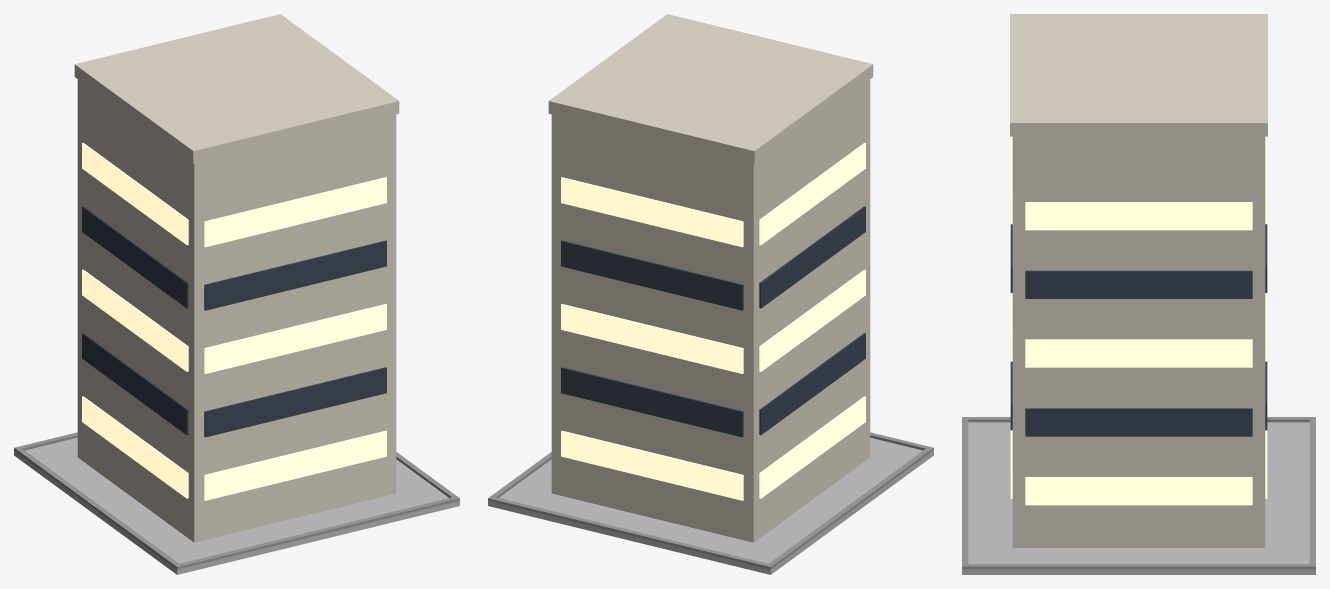
File: bt-midrise-1a.glb
3 views of the same model, side by side, from view 1: azimuth 30°, elevation 25°; view 2: azimuth 150°, elevation 25°; view 3: azimuth 270°, elevation 25° (orthographic). The views are drawn at different scales.
Visible parts, largest first — view 1: body, parapet, skirt_slab, band_s_3, band_s_1, band_s_0, band_s_4, band_s_2, band_w_3, band_w_0, band_w_1, band_w_2 (+3 smaller); view 2: body, parapet, skirt_slab, band_n_3, band_n_1, band_n_0, band_n_4, band_n_2, band_w_3, band_w_0, band_w_1, band_w_2 (+3 smaller); view 3: body, parapet, skirt_slab, band_e_0, band_e_1, band_e_2, band_e_3, band_e_4, skirt_curb_e, skirt_curb_n, skirt_curb_s, skirt_curb_w.
Boxes of the visible parts, box(x1,y1,x2,y2) form: body: box(77, 79, 396, 542); parapet: box(74, 14, 399, 163); skirt_slab: box(14, 437, 459, 574); band_s_3: box(204, 240, 386, 310); band_s_1: box(204, 367, 386, 437); band_s_0: box(204, 430, 386, 500); band_s_4: box(204, 177, 386, 247); band_s_2: box(204, 304, 386, 373); band_w_3: box(82, 206, 188, 308); band_w_0: box(82, 396, 188, 498); band_w_1: box(82, 333, 188, 435); band_w_2: box(82, 269, 188, 371); body: box(551, 79, 870, 542); parapet: box(548, 14, 873, 163); skirt_slab: box(488, 437, 933, 574); band_n_3: box(561, 240, 743, 310); band_n_1: box(561, 367, 743, 437); band_n_0: box(561, 430, 743, 500); band_n_4: box(561, 177, 743, 247); band_n_2: box(561, 304, 743, 373); band_w_3: box(759, 206, 865, 308); band_w_0: box(759, 396, 865, 498); band_w_1: box(759, 333, 865, 435); band_w_2: box(759, 269, 865, 371); body: box(1012, 136, 1265, 547); parapet: box(1010, 14, 1267, 136); skirt_slab: box(962, 422, 1315, 574); band_e_0: box(1025, 477, 1252, 505); band_e_1: box(1025, 408, 1252, 436); band_e_2: box(1025, 339, 1252, 367); band_e_3: box(1025, 270, 1252, 298); band_e_4: box(1025, 202, 1252, 230); skirt_curb_e: box(968, 564, 1309, 569); skirt_curb_n: box(1309, 417, 1315, 569); skirt_curb_s: box(962, 417, 968, 569); skirt_curb_w: box(968, 417, 1309, 422).
Size of the model in its own units: 14 by 18.85 by 14.
